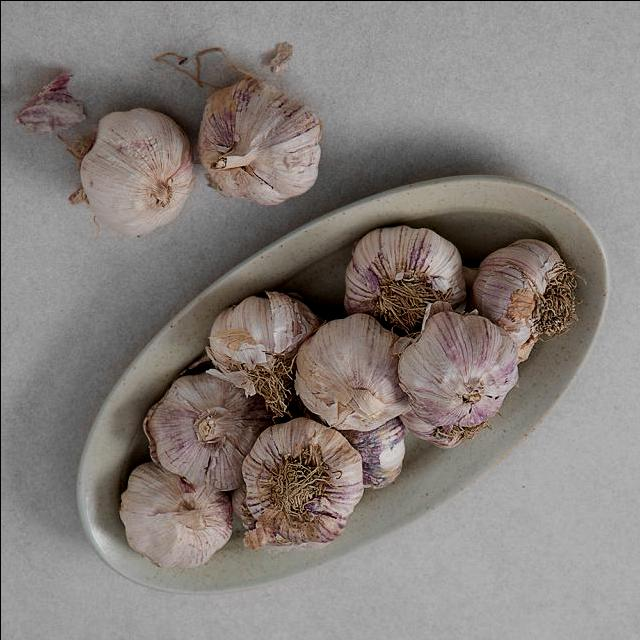garlic: (141, 370, 281, 491), (199, 79, 322, 207), (243, 419, 361, 548), (79, 108, 195, 235), (343, 216, 465, 331), (296, 316, 411, 432), (117, 458, 230, 573), (400, 313, 510, 428), (207, 292, 325, 397), (471, 239, 571, 346)
